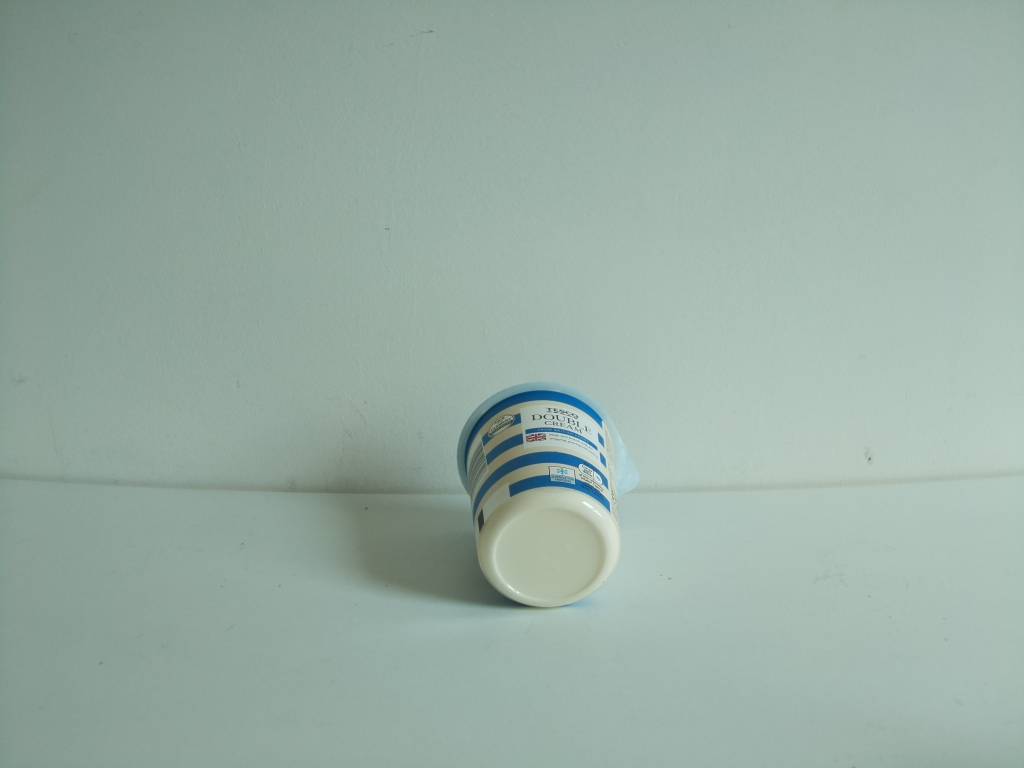cream: (454, 382, 645, 612)
